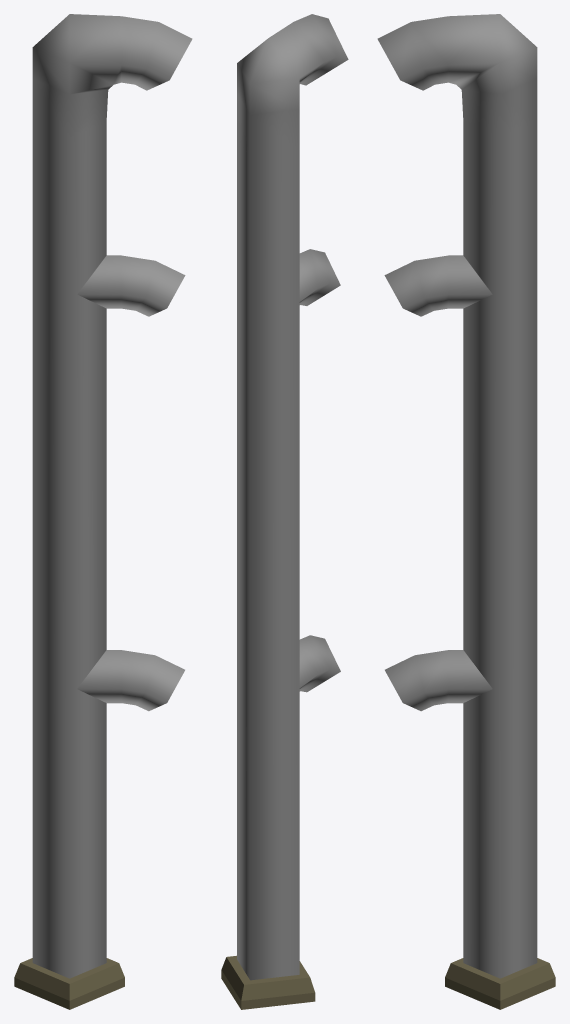
The model's file is SW_ENV_Railing_StairTop.fbx.
3 renders of one model, left to right at view 1: azimuth 90°, elevation 25°; view 2: azimuth 150°, elevation 25°; view 3: azimuth 270°, elevation 25°, orthographic. The views are drawn at different scales.
Visible parts, largest first — view 1: SW_ENV_Railing_StairTop; view 2: SW_ENV_Railing_StairTop; view 3: SW_ENV_Railing_StairTop.
Part boxes in pixels (x1,y1,x2,y2): SW_ENV_Railing_StairTop: (14,14,192,1009); SW_ENV_Railing_StairTop: (221,14,348,1009); SW_ENV_Railing_StairTop: (377,14,555,1009).
Bounding box in the file's own units: 0.1068 × 1.04 × 0.172.
